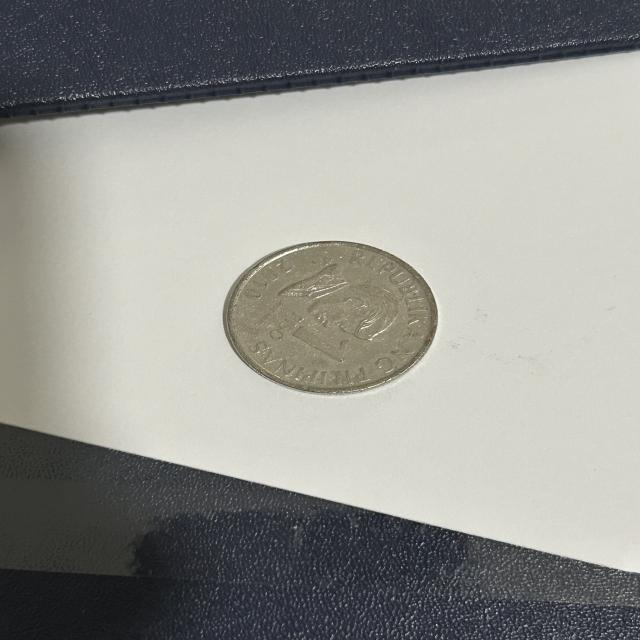1_Old_Front: (262, 314, 358, 367)
